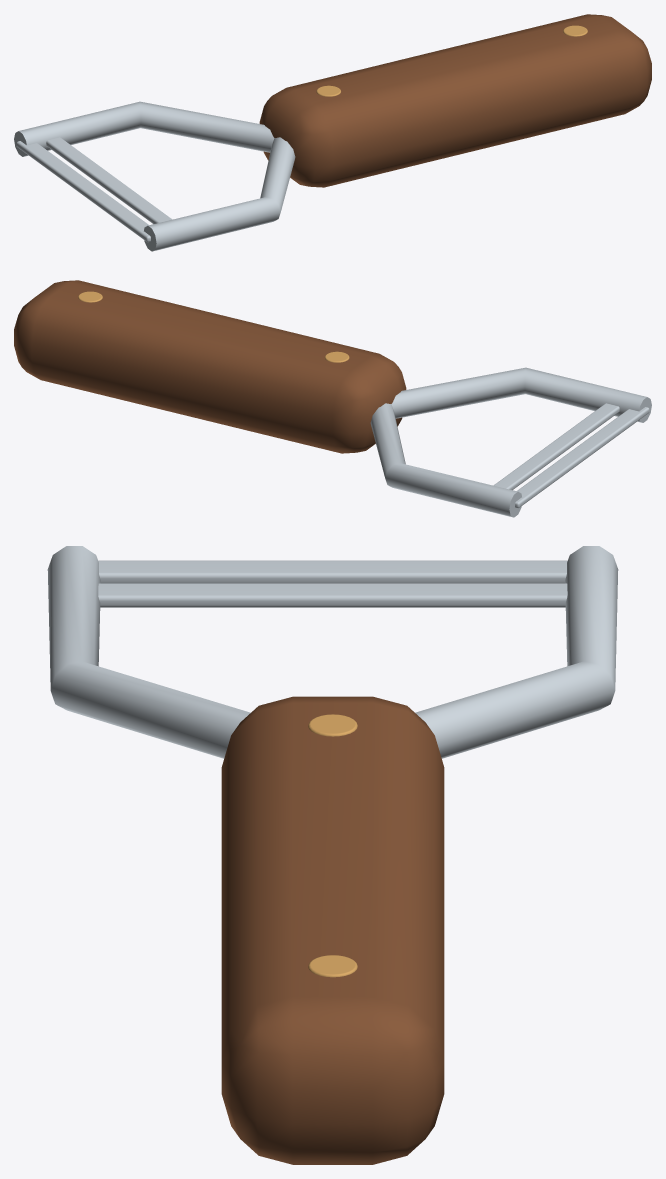
Rendered from Peeler.glb.
3 views of the same model, one above another, from view 1: azimuth 30°, elevation 25°; view 2: azimuth 150°, elevation 25°; view 3: azimuth 270°, elevation 25° (orthographic). The views are drawn at different scales.
Parts seen in each view (by area): view 1: Contoured grip.004, Y frame.001, Y frame, Swivel blade, Swivel blade.001; view 2: Contoured grip.004, Y frame, Y frame.001, Swivel blade, Swivel blade.001; view 3: Contoured grip.004, Y frame.001, Y frame, Swivel blade.001, Swivel blade, Flush pin.008, Flush pin.009.
Boxes of the visible parts, box(x1,y1,x2,y2) form: Contoured grip.004: box(259, 14, 651, 187); Y frame.001: box(14, 101, 274, 156); Y frame: box(144, 137, 295, 251); Swivel blade: box(16, 141, 150, 242); Swivel blade.001: box(46, 137, 172, 224); Contoured grip.004: box(14, 280, 406, 453); Y frame: box(391, 367, 651, 422); Y frame.001: box(370, 403, 521, 517); Swivel blade: box(515, 407, 649, 508); Swivel blade.001: box(493, 403, 619, 490); Contoured grip.004: box(221, 696, 444, 1164); Y frame.001: box(415, 546, 618, 758); Y frame: box(47, 546, 250, 758); Swivel blade.001: box(98, 583, 567, 607); Swivel blade: box(98, 560, 567, 583); Flush pin.008: box(308, 714, 357, 736); Flush pin.009: box(308, 955, 357, 977).
Size of the model in its own units: 0.144 by 0.0205 by 0.064.
